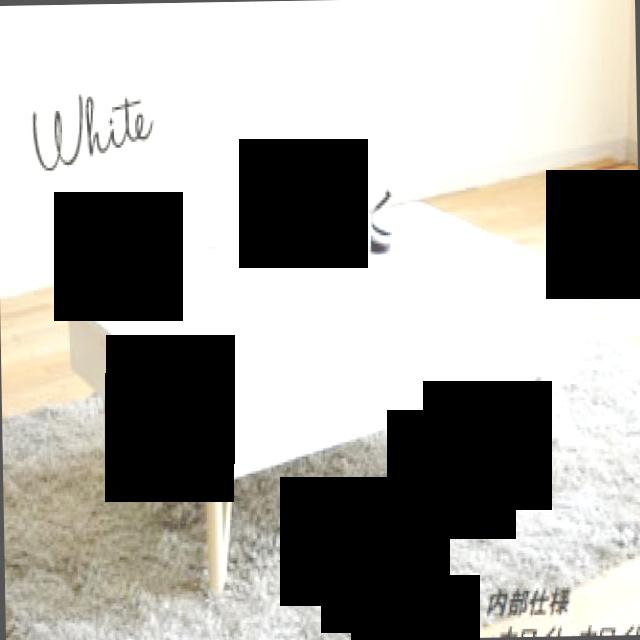white sofa: (76, 202, 590, 531)
